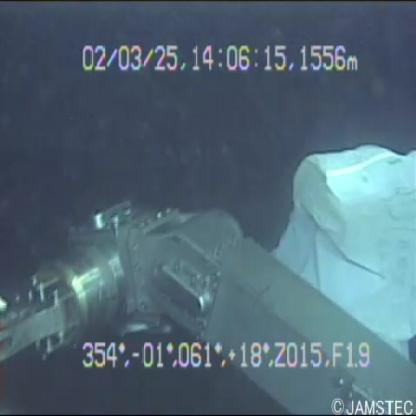Rov: (3, 172, 416, 415)
Rác: (240, 116, 416, 366)
